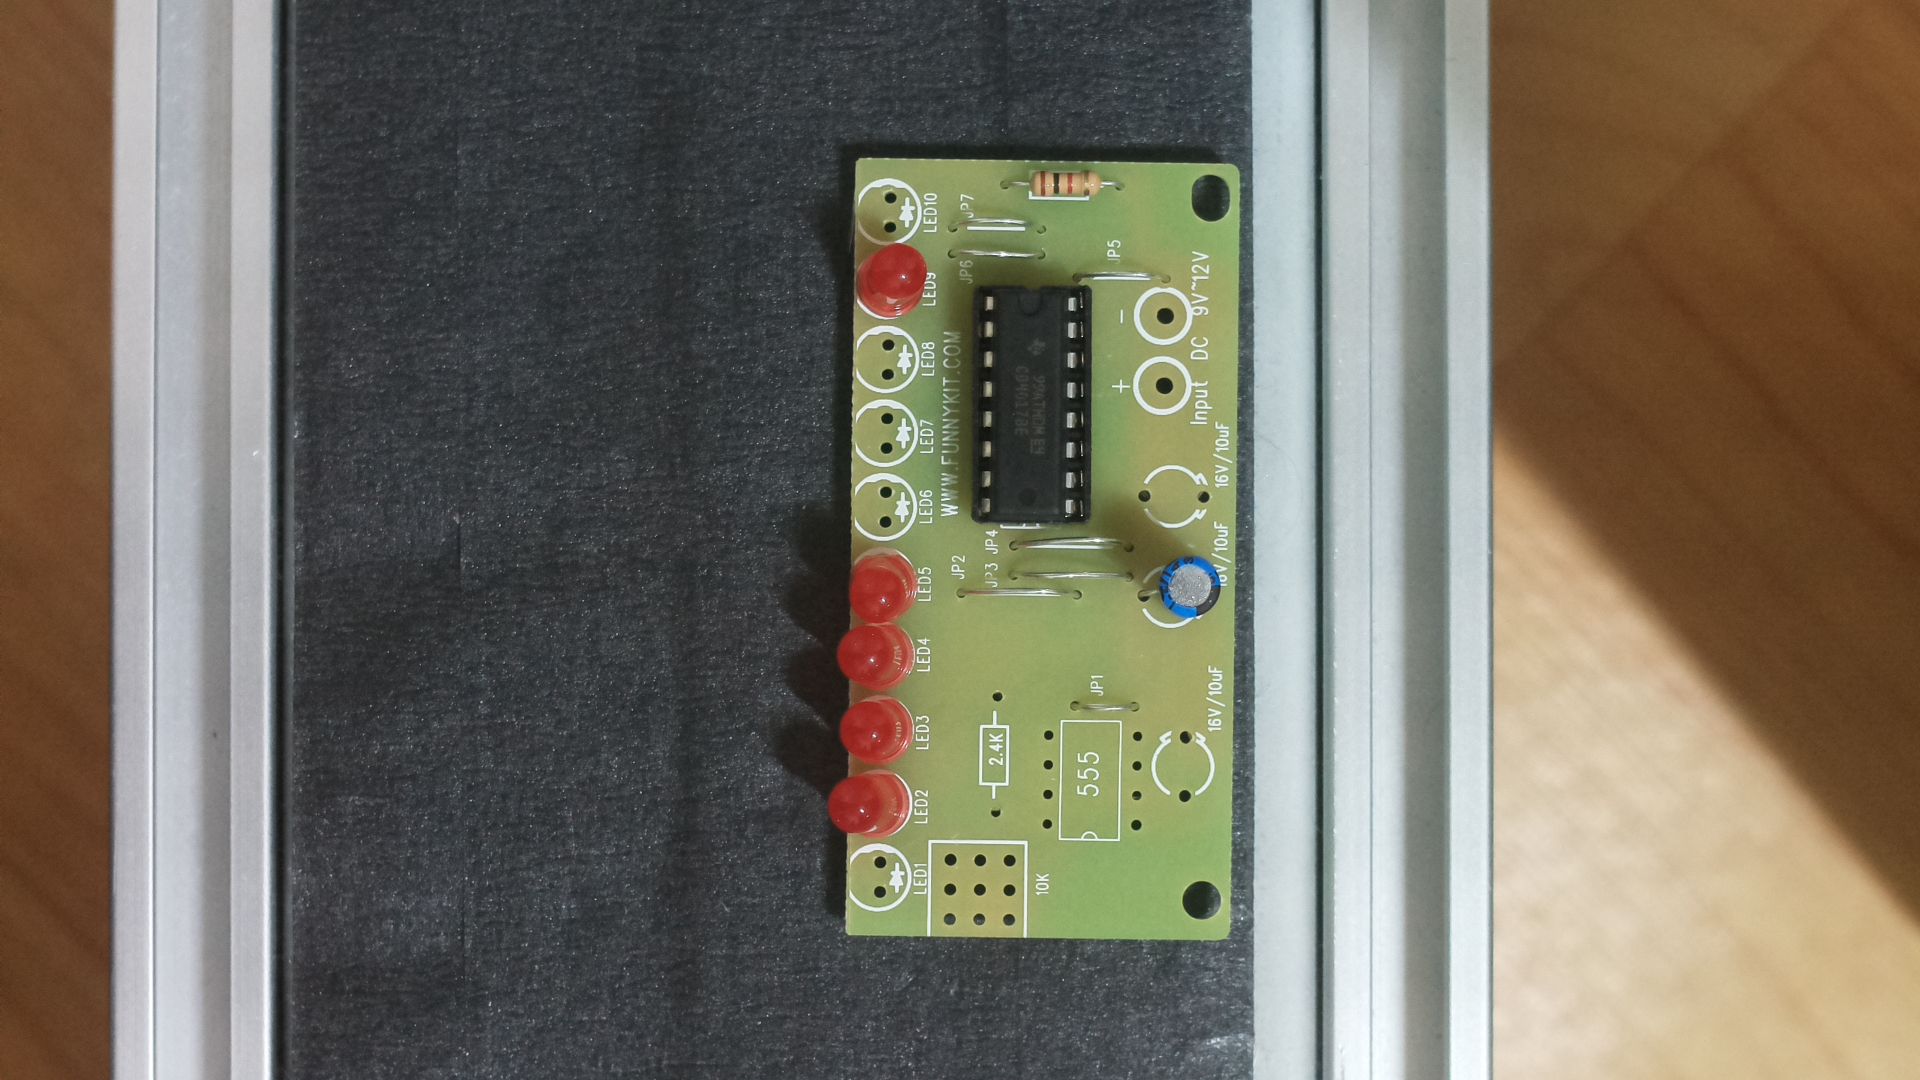B_Missing_part: (825, 137, 1242, 959)
